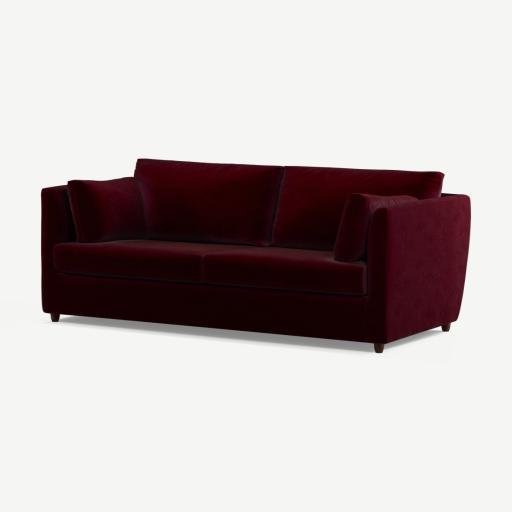back_cushion: (135, 160, 442, 251)
base: (58, 274, 365, 341)
left_arm: (364, 195, 470, 343)
legs: (374, 343, 385, 353), (441, 323, 450, 331), (51, 313, 59, 322)
right_arm: (42, 185, 76, 321)
seat_cushion: (52, 240, 366, 295)
two-seater: (0, 0, 511, 512)
